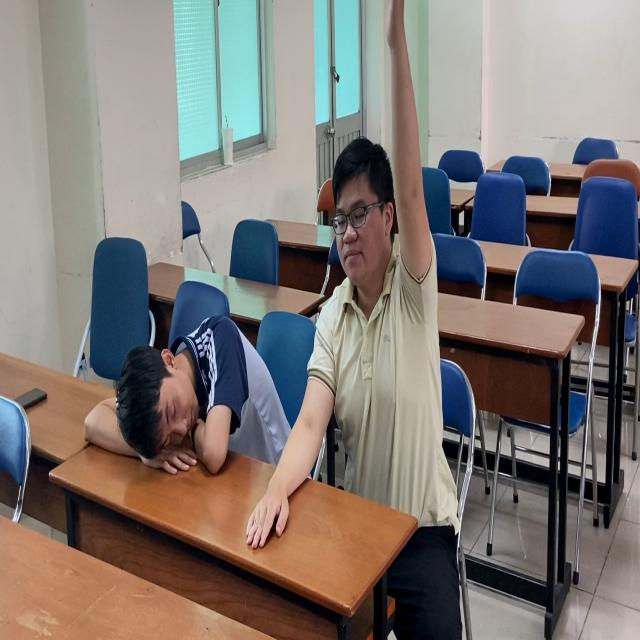raise_hand: (301, 1, 457, 533)
sleep: (93, 303, 297, 487)
